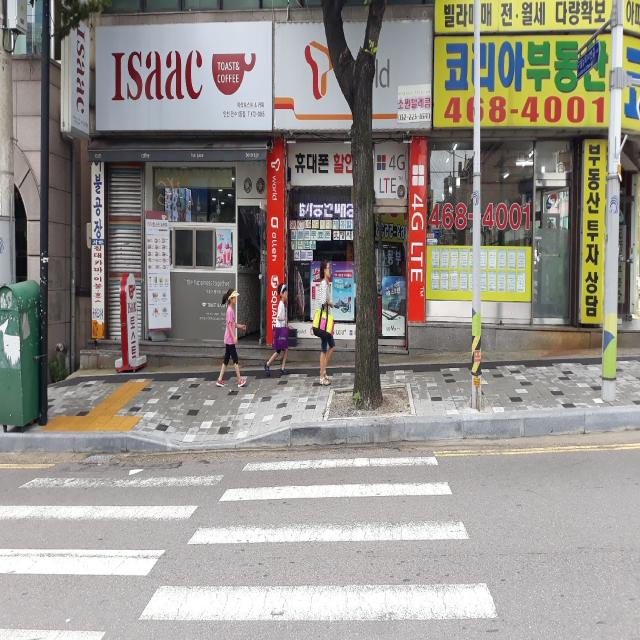횡단보도: (0, 455, 499, 640)
